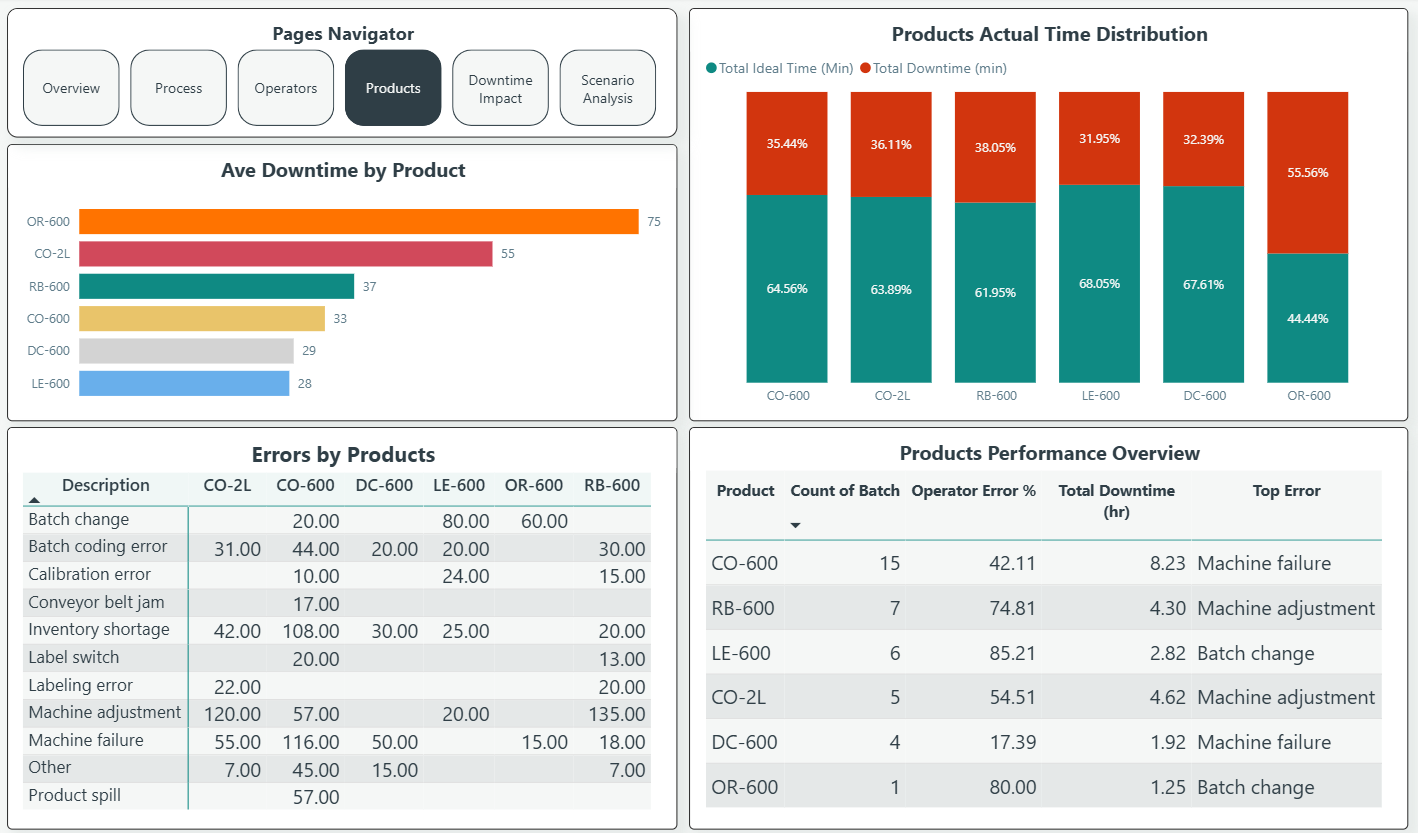

The dashboard page shown, as its layout file describes it:
{"tool":"powerbi","page":{"name":"Products","canvas":[1340,800],"ordinal":3},"visuals":[{"type":"hundredPercentStackedColumnChart","title":"Products Actual Time Distribution","fields":{"Category":["Products.Product"],"Y":["#Measures.Total Ideal Time (Min)","#Measures.Total Downtime (min)"]},"box":[652,10,677,389],"z":0},{"type":"barChart","title":"Ave Downtime by Product","fields":{"Y":["#Measures.Ave Downtime per Batch"],"Category":["Products.Product"]},"box":[10,138,631,261],"z":1000},{"type":"pivotTable","title":"Errors by Products","fields":{"Rows":["Downtime factors.Description"],"Values":["#Measuress.Total Downtime (min)"],"Columns":["Products.Product"]},"box":[10,405,631,379],"z":2000},{"type":"tableEx","title":"Products Performance Overview","fields":{"Values":["Products.Product","Line productivity.Batch","#Measures.Operator Error %","#Measures.Total Downtime (hr)","#Measures.Topp Error"]},"box":[652,405,677,379],"z":5000},{"type":"pageNavigator","title":"Pages Navigator","box":[10,10,631,122],"z":6000}]}

Visuals, with their boxes in screenshot pixels (x1, y1, x2, y2), scaled from the page's 1340x800 canvas onto the 1418x833 screenshot:
"Products Actual Time Distribution" hundredPercentStackedColumnChart: [690, 10, 1406, 415]
"Ave Downtime by Product" barChart: [11, 144, 678, 415]
"Errors by Products" pivotTable: [11, 422, 678, 816]
"Products Performance Overview" tableEx: [690, 422, 1406, 816]
"Pages Navigator" pageNavigator: [11, 10, 678, 137]
